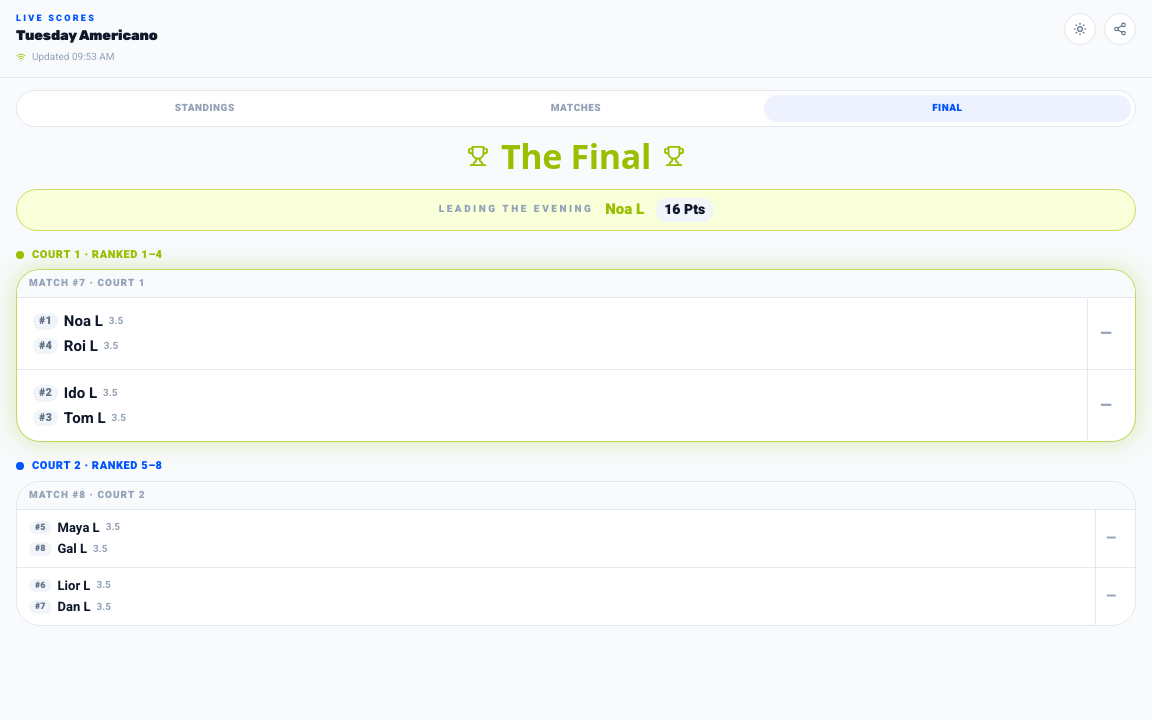
Test: the live page for an Americano › jumps to the final once drawn; the Matches tab leaves it out
Expected: the button "Final" is shown, [764,94,1131,122]
Expected: the heading "The Final" is shown, [501,138,651,172]
Click the button "Matches".
click(576, 108)  # box [392,94,760,122]
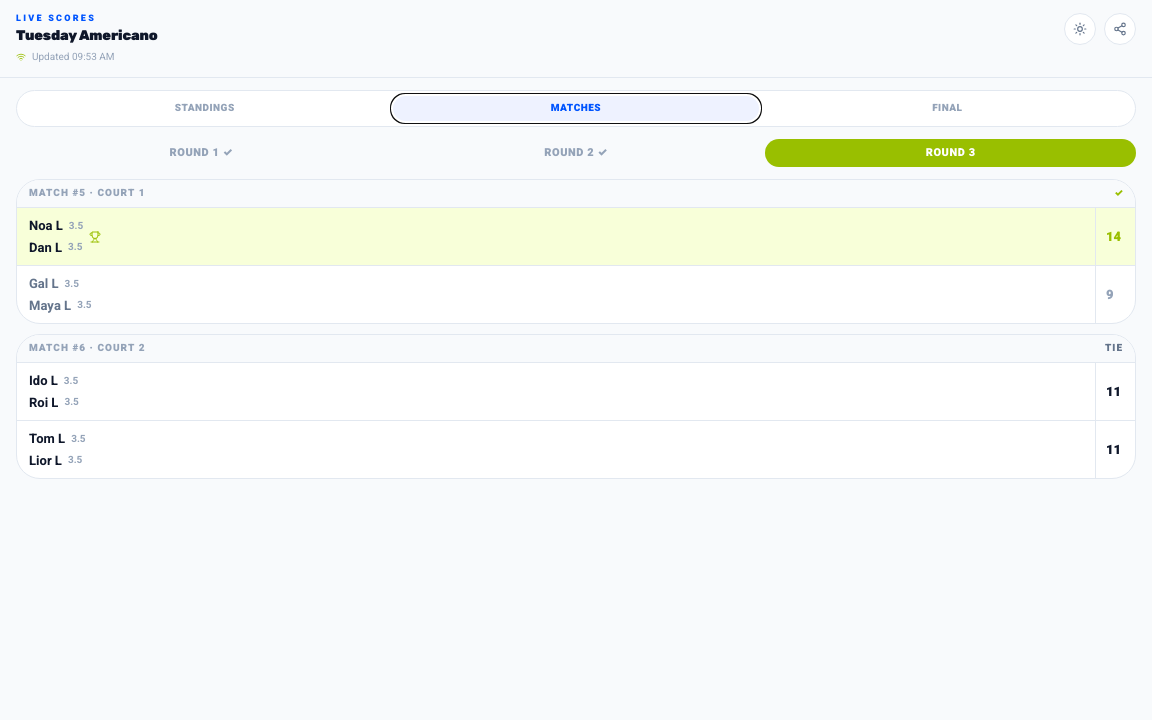
Result: the button "Round 3" is shown at [765,138,1136,167]
